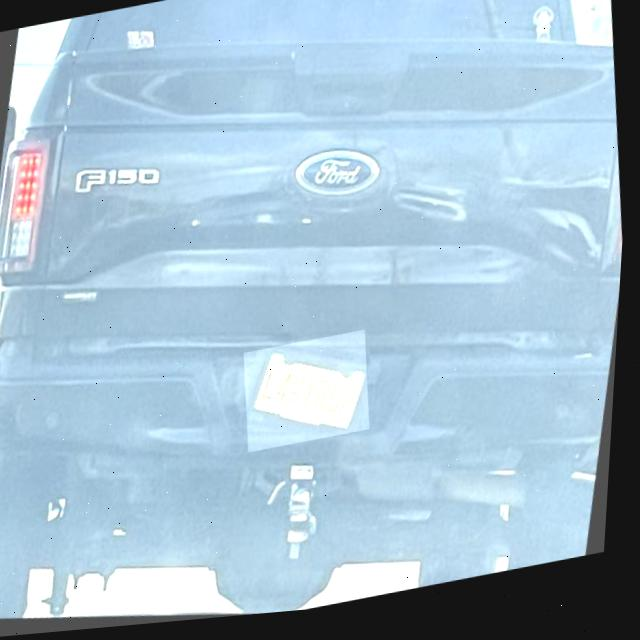LicensePlate: (252, 353, 372, 440)
